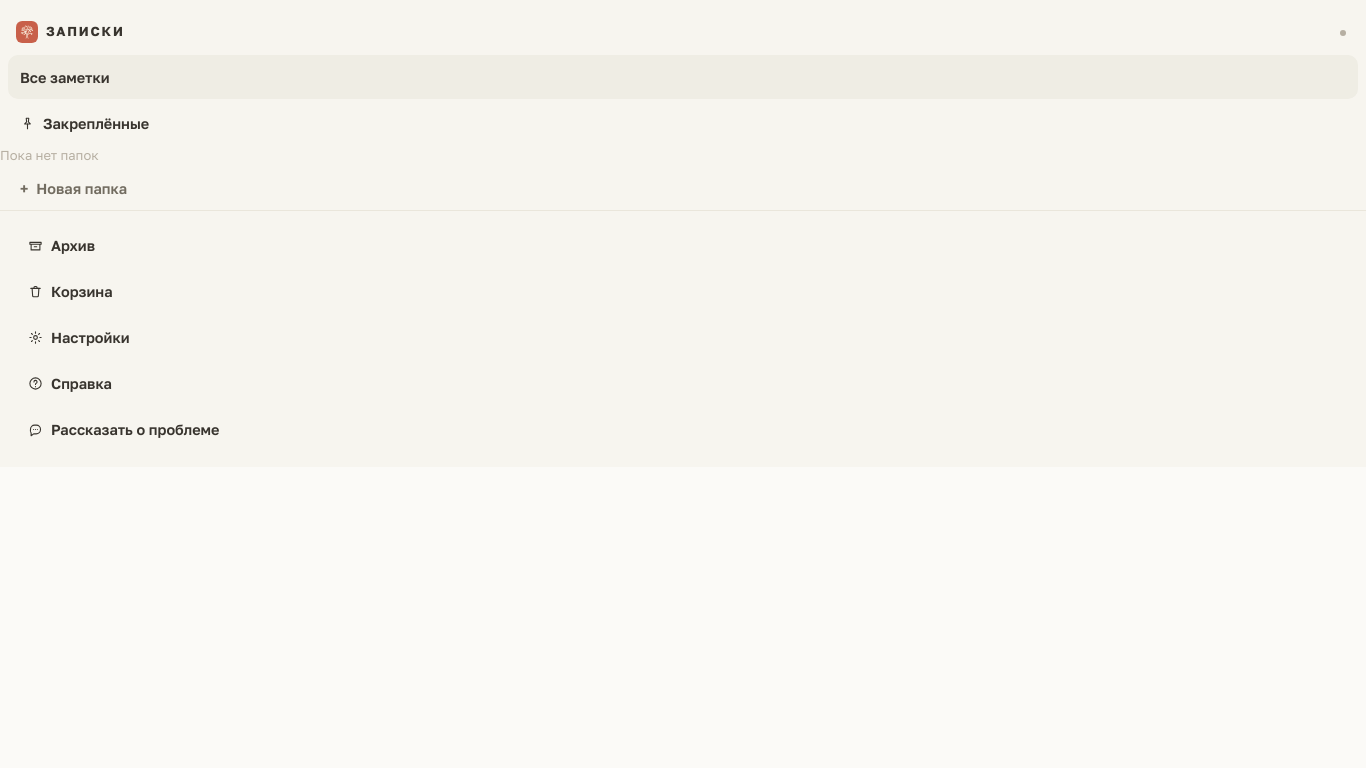
Scenario: §1.4 — диалог не повторяет одно слово четыре раза › поле пустое, с подсказкой, а кнопка — глагол
Click the button "+ Новая папка". click: (82, 188)
box: [8, 166, 1358, 210]
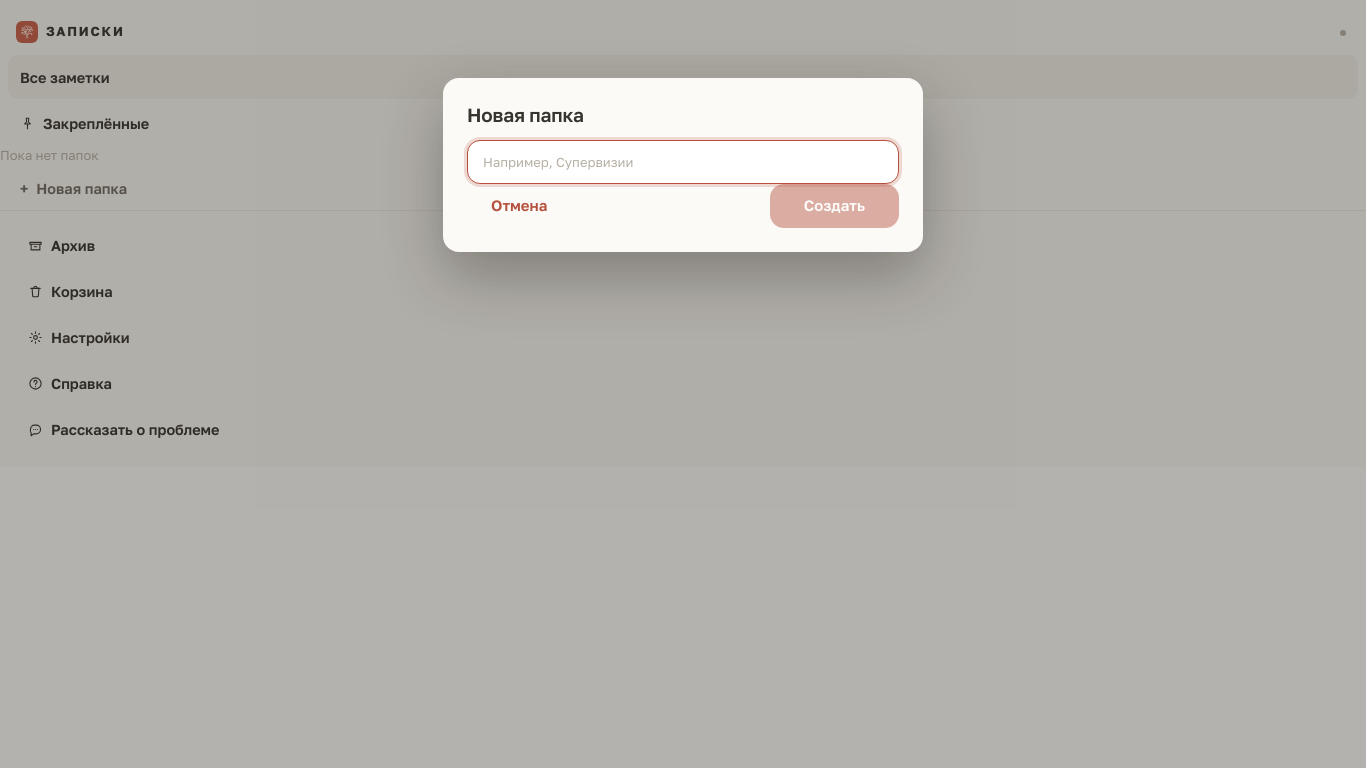
Check: the field named "Название папки" is empty, box [483, 153, 883, 171]
Check: the button "Создать" is shown, box [770, 184, 899, 228]
